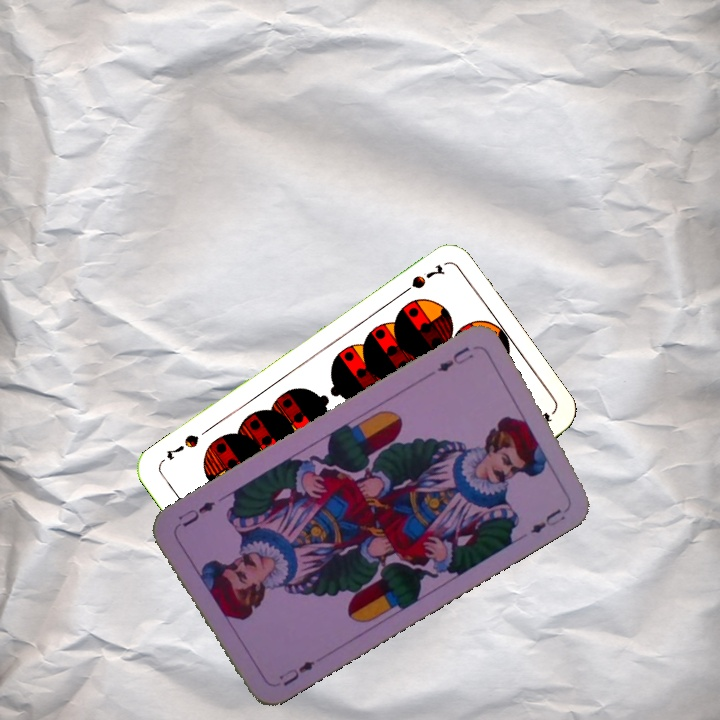EU: (275, 656, 318, 689), (433, 342, 476, 375)
S7: (395, 260, 447, 299)
